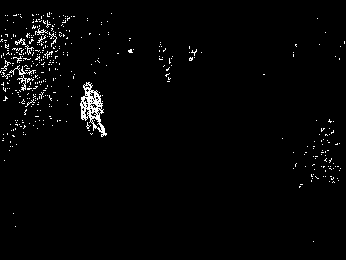person: (78, 81, 109, 138)
